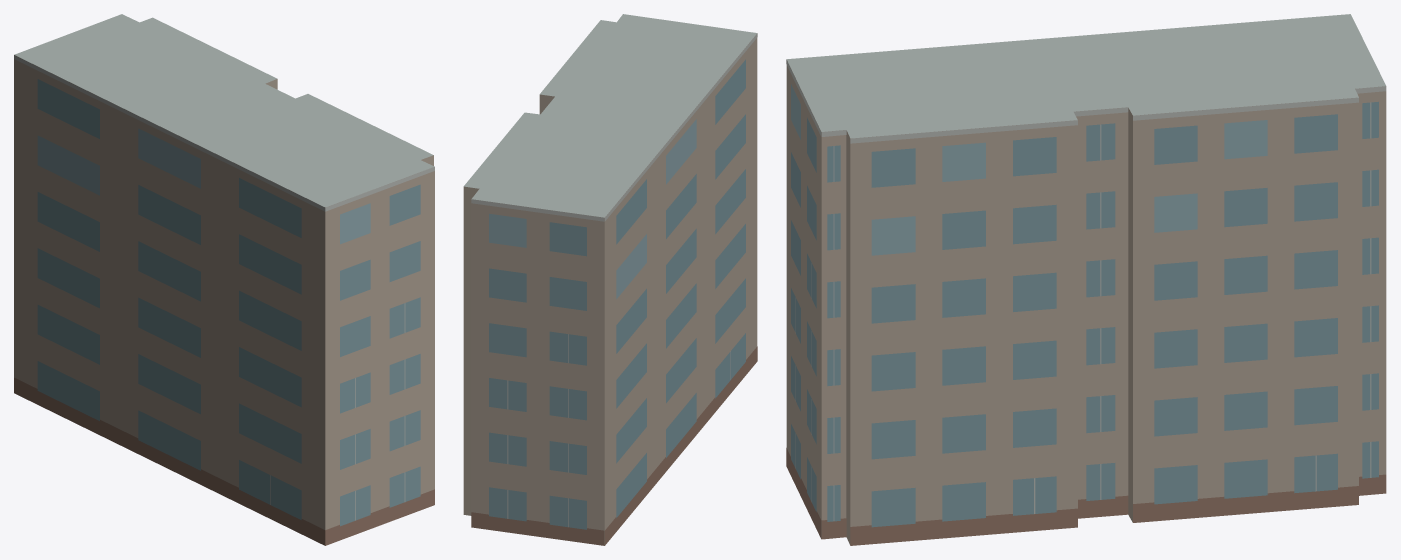
Rendered from survey-upis-33006977.glb.
The picture shows the model from 3 angles, left to right: view 1: azimuth 30°, elevation 25°; view 2: azimuth 150°, elevation 25°; view 3: azimuth 270°, elevation 25°; orthographic projection. The views are drawn at different scales.
Parts seen in each view (by area): view 1: survey-upis-33006977.tmp; view 2: survey-upis-33006977.tmp; view 3: survey-upis-33006977.tmp.
Boxes of the visible parts, x1,y1,x2,y2 form: survey-upis-33006977.tmp: [14, 14, 434, 545]; survey-upis-33006977.tmp: [463, 14, 757, 545]; survey-upis-33006977.tmp: [786, 14, 1386, 545].
Size of the model in its own units: 12.8 by 19.5 by 26.03.
